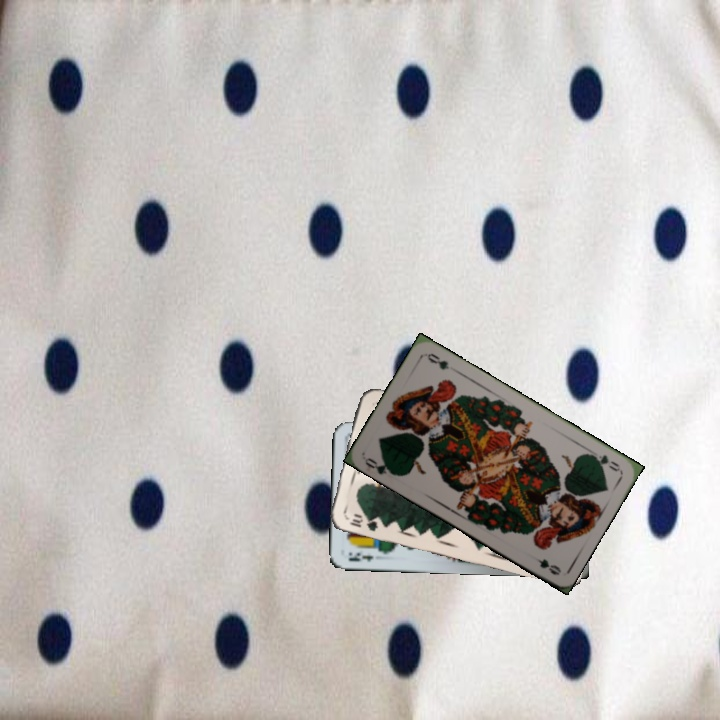EK: (344, 548, 376, 564)
G10: (345, 510, 385, 534)
GO: (361, 454, 400, 478), (585, 450, 623, 474)
